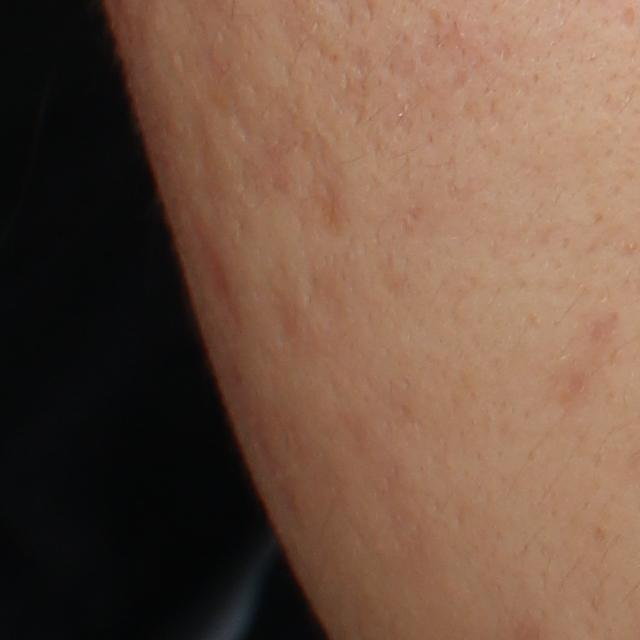atrophic_scar: (293, 127, 350, 249), (332, 47, 372, 126), (418, 24, 468, 68), (613, 5, 636, 31)
